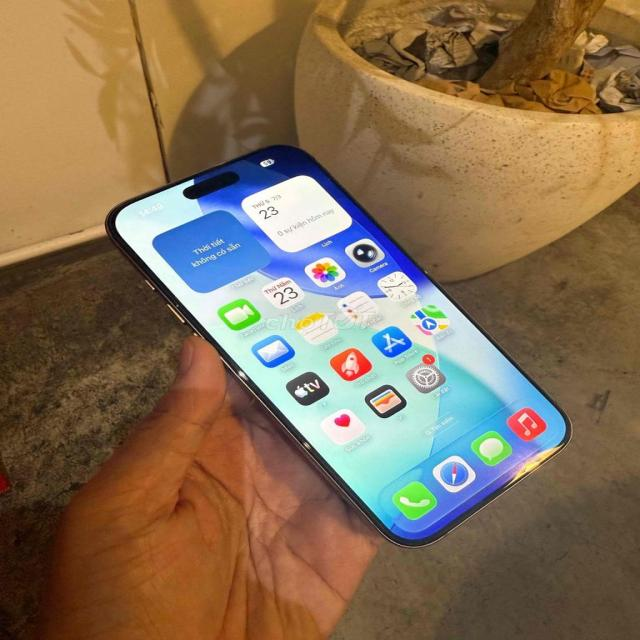gen_16: (107, 145, 569, 547)
